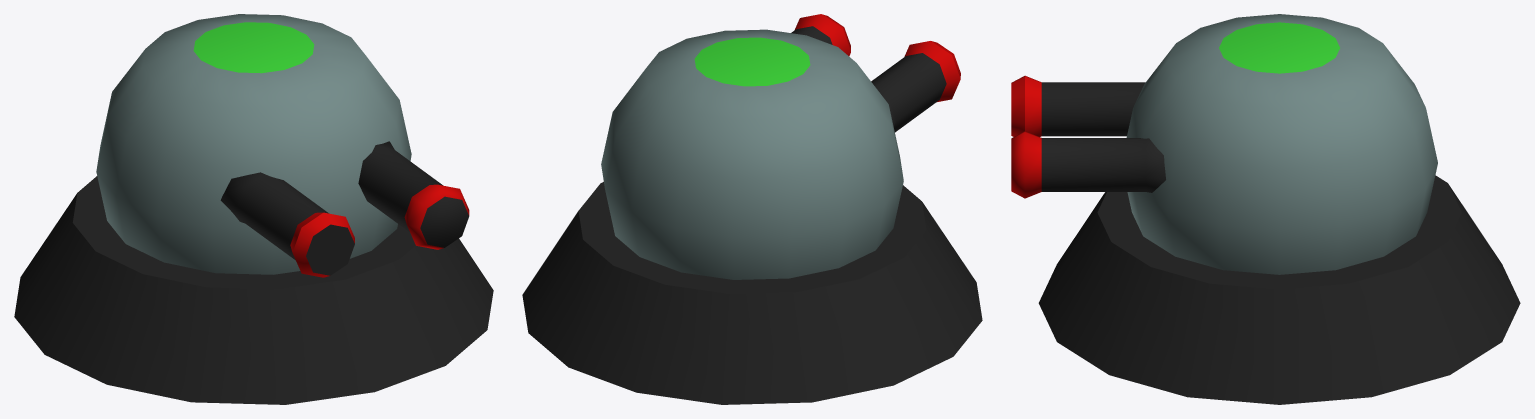
File: MilitaryTwinTurret.fbx
3 renders of one model, left to right at view 1: azimuth 30°, elevation 25°; view 2: azimuth 150°, elevation 25°; view 3: azimuth 270°, elevation 25°, orthographic. The views are drawn at different scales.
Parts seen in each view (by area): view 1: Base, Body, Barrel_Right, Barrel_Left; view 2: Body, Base, Barrel_Right, Barrel_Left; view 3: Body, Base, Barrel_Left, Barrel_Right.
Boxes of the visible parts, x1=… form: Base: x1=14, y1=176, x2=493, y2=404; Body: x1=96, y1=14, x2=411, y2=274; Barrel_Right: x1=220, y1=172, x2=354, y2=277; Barrel_Left: x1=358, y1=141, x2=469, y2=249; Body: x1=601, y1=29, x2=903, y2=279; Base: x1=522, y1=182, x2=982, y2=404; Barrel_Right: x1=871, y1=41, x2=960, y2=132; Barrel_Left: x1=791, y1=14, x2=850, y2=56; Body: x1=1126, y1=14, x2=1437, y2=274; Base: x1=1038, y1=175, x2=1520, y2=404; Barrel_Left: x1=1011, y1=131, x2=1165, y2=198; Barrel_Right: x1=1011, y1=75, x2=1145, y2=136.
Size of the model in its own units: 2 by 1.18 by 2.11.
